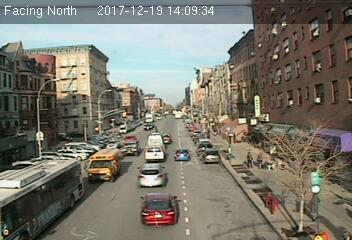car: (139, 191, 180, 226), (135, 163, 168, 190), (123, 141, 141, 156), (203, 149, 220, 164), (173, 148, 191, 162)
pedestrian: (244, 150, 255, 170)
truck: (84, 146, 121, 182), (142, 144, 168, 162)
